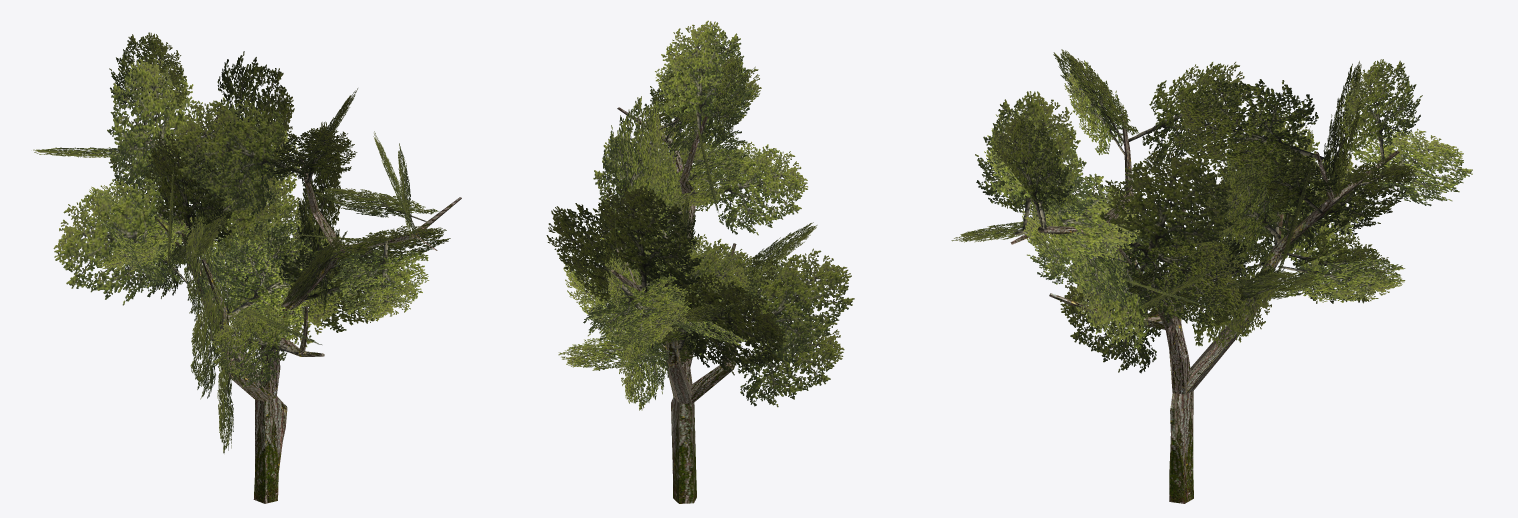
Rendered from tree08.fbx.
3 renders of one model, left to right at view 1: azimuth 30°, elevation 25°; view 2: azimuth 150°, elevation 25°; view 3: azimuth 270°, elevation 25°, orthographic. The views are drawn at different scales.
Visible parts, largest first — view 1: treee08; view 2: treee08; view 3: treee08.
Part boxes in pixels (left/top/right/bottom): treee08: left=33, top=32, right=461, bottom=503; treee08: left=546, top=20, right=854, bottom=503; treee08: left=951, top=49, right=1472, bottom=503.
Size of the model in its own units: 3872 by 5116 by 5794.
